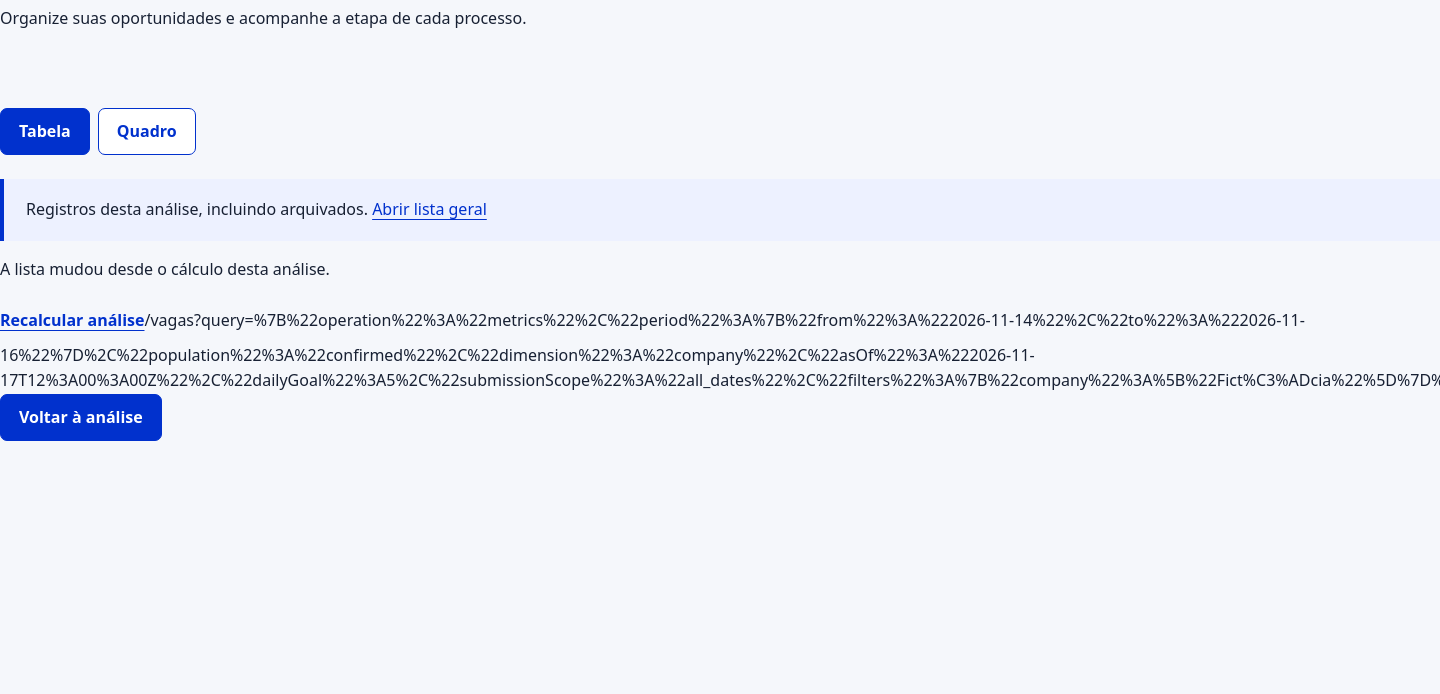
Test: accessible evidence-backed analytics › recalculates a stale occurrence selection with the same normalized filter and a new cutoff
Check: the message reads "A lista mudou desde o cálculo desta análise.", box [0,258,330,280]
Step 1. Click the link "Recalcular análise" → {"x": 72, "y": 320}, box [0,309,144,331]
(page scrolled)
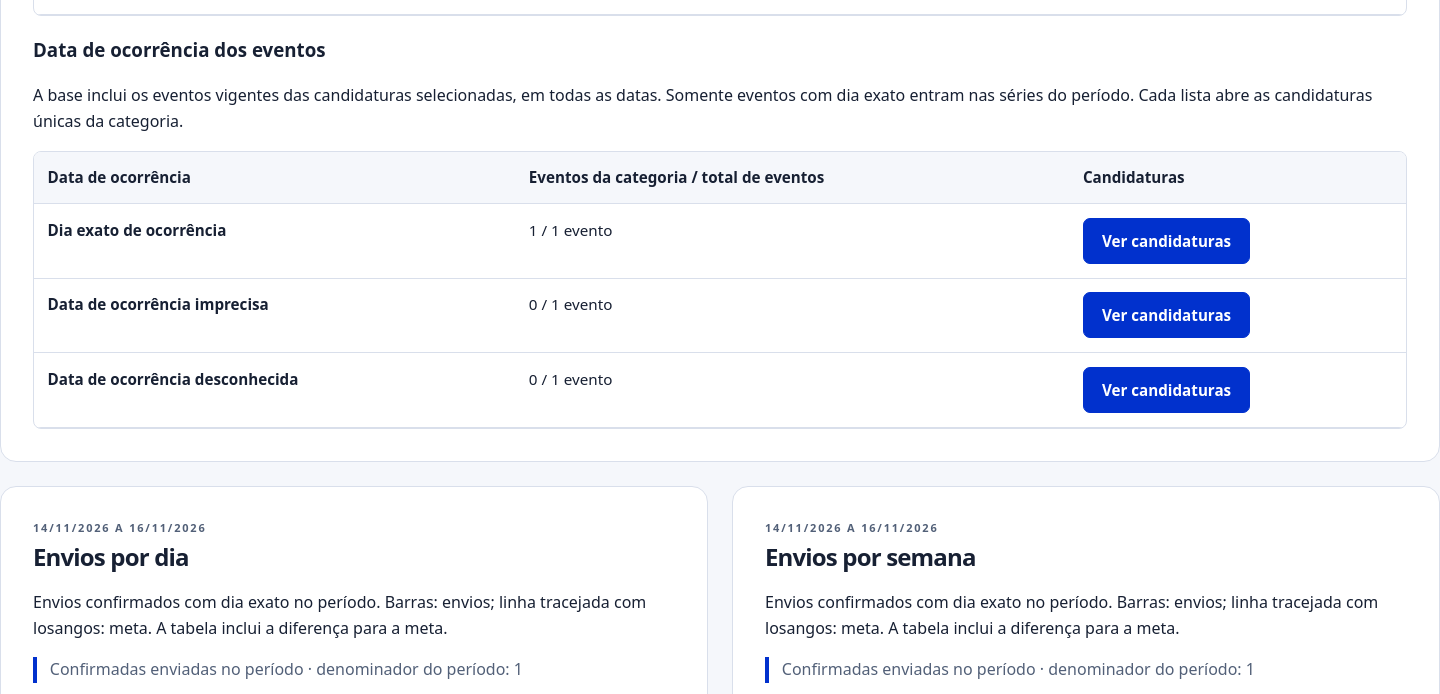
Check: the element named "Data de ocorrência dos eventos" is shown, box [33,150,1407,428]
